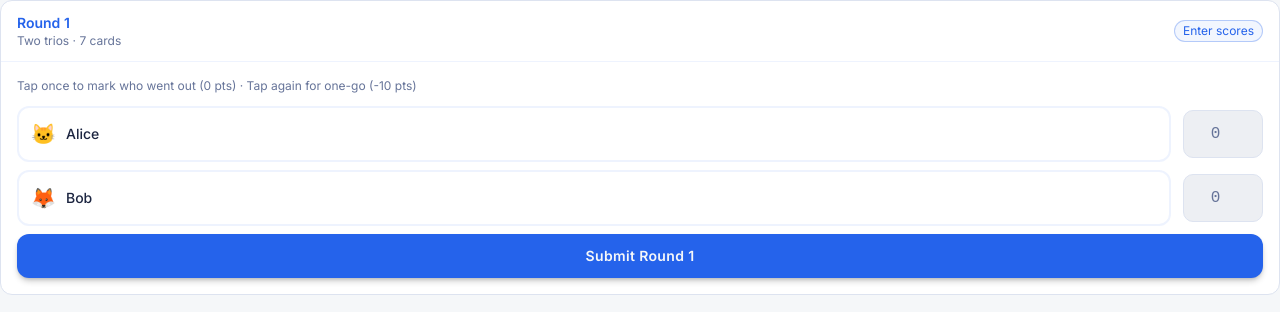
Test: ScoreEntry — went out toggle › first tap marks player as OUT with 0 displayed
Click the button "🐱 Alice".
click(83, 134)  # box [17,106,1171,162]
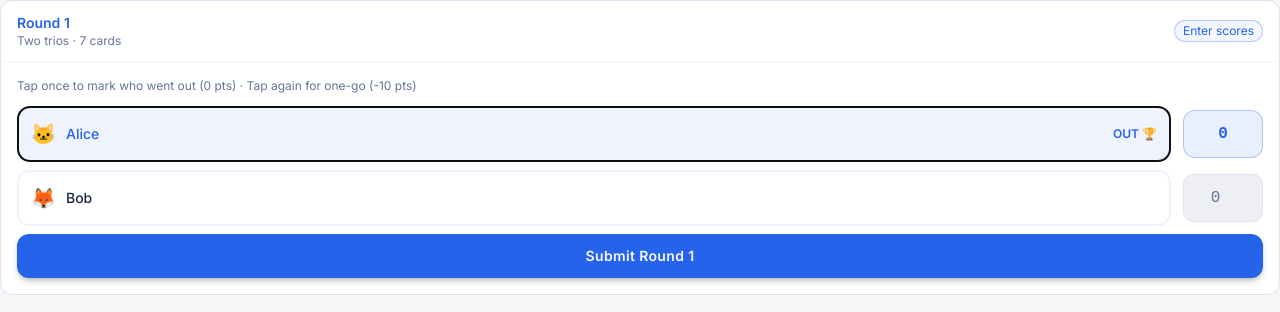
Now the text "OUT 🏆" is shown, box [1113,126,1157,142]
Now the text "0" is shown, box [1183,110,1263,158]
